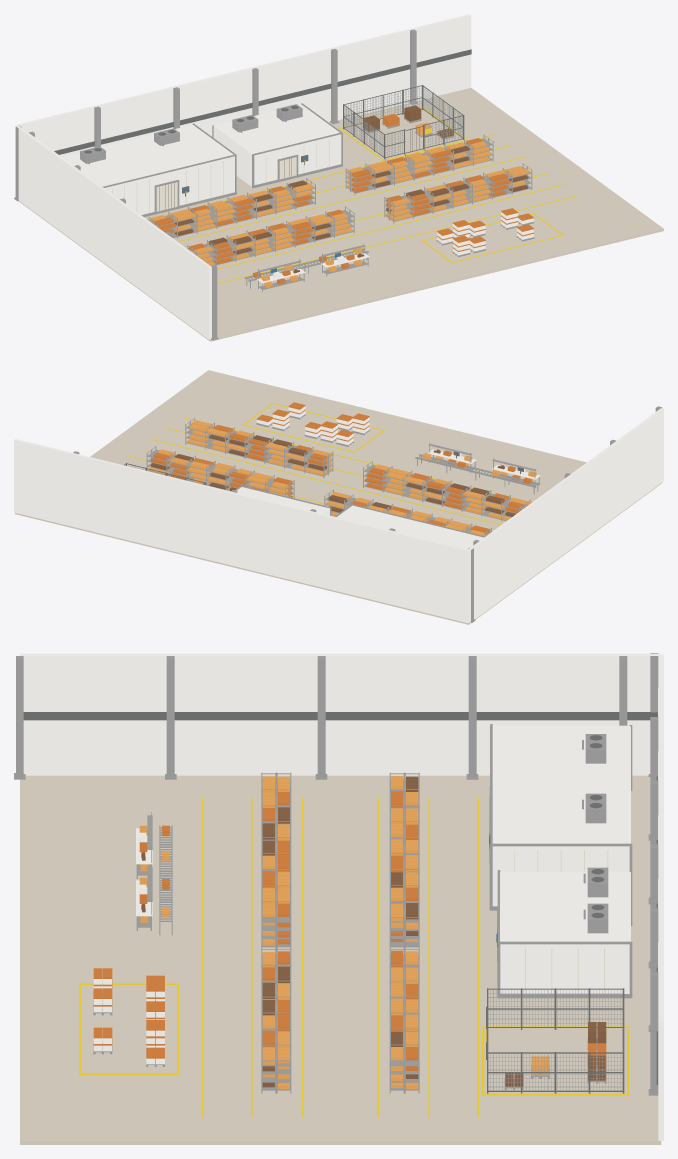
The model's file is pharma.glb.
The picture shows the model from 3 angles, top to bottom: view 1: azimuth 30°, elevation 25°; view 2: azimuth 150°, elevation 25°; view 3: azimuth 270°, elevation 25°; orthographic projection. The views are drawn at different scales.
Visible parts, largest first — view 1: hall_floor, hall_wall_y, hall_wall_x, coldroom_panels, freezer_panels, quarantine_mesh, hall_cols_y, hall_wall_y_band, floor_lanes, shelf_3_w_frame, shelf_0_w_frame, quarantine_frame (+8 smaller); view 2: hall_wall_y, hall_floor, hall_wall_x, coldroom_panels, shelf_2_w_frame, shelf_2_e_frame, shelf_1_e_frame, floor_lanes, freezer_panels, conveyor_roller, dispatch_marking; view 3: hall_floor, hall_wall_x, coldroom_panels, freezer_panels, hall_wall_x_band, hall_cols_x, quarantine_mesh, floor_lanes, hall_cols_y, hall_wall_y, quarantine_frame, freezer_trim (+14 smaller).
Boxes of the visible parts, x1,y1,x2,y2 form: hall_floor: [18, 88, 663, 341]; hall_wall_y: [16, 14, 471, 156]; hall_wall_x: [15, 125, 211, 339]; coldroom_panels: [61, 124, 234, 214]; freezer_panels: [213, 104, 341, 186]; quarantine_mesh: [344, 87, 462, 156]; hall_cols_y: [14, 29, 417, 201]; hall_wall_y_band: [54, 49, 471, 154]; floor_lanes: [147, 134, 579, 283]; shelf_3_w_frame: [191, 210, 354, 265]; shelf_0_w_frame: [153, 181, 315, 238]; quarantine_frame: [343, 85, 464, 159]; hall_wall_y: [14, 439, 468, 622]; hall_floor: [15, 370, 662, 624]; hall_wall_x: [468, 408, 663, 622]; coldroom_panels: [337, 505, 483, 548]; shelf_2_w_frame: [363, 464, 525, 521]; shelf_2_e_frame: [185, 421, 328, 477]; shelf_1_e_frame: [146, 449, 289, 497]; floor_lanes: [130, 417, 529, 524]; freezer_panels: [237, 487, 329, 515]; conveyor_roller: [415, 454, 539, 494]; dispatch_marking: [242, 403, 384, 452]; hall_floor: [20, 775, 661, 1144]; hall_wall_x: [20, 653, 661, 775]; coldroom_panels: [492, 725, 630, 906]; freezer_panels: [500, 871, 630, 993]; hall_wall_x_band: [23, 712, 657, 720]; hall_cols_x: [14, 656, 627, 779]; quarantine_mesh: [487, 990, 622, 1090]; floor_lanes: [202, 797, 478, 1116]; hall_cols_y: [648, 653, 658, 1095]; hall_wall_y: [658, 654, 663, 1140]; quarantine_frame: [487, 988, 624, 1093]; freezer_trim: [497, 870, 632, 998].
Bounding box in the file's own units: 46.31 × 7.22 × 34.46.
